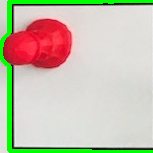Red Pawn: (4, 13, 75, 74)
